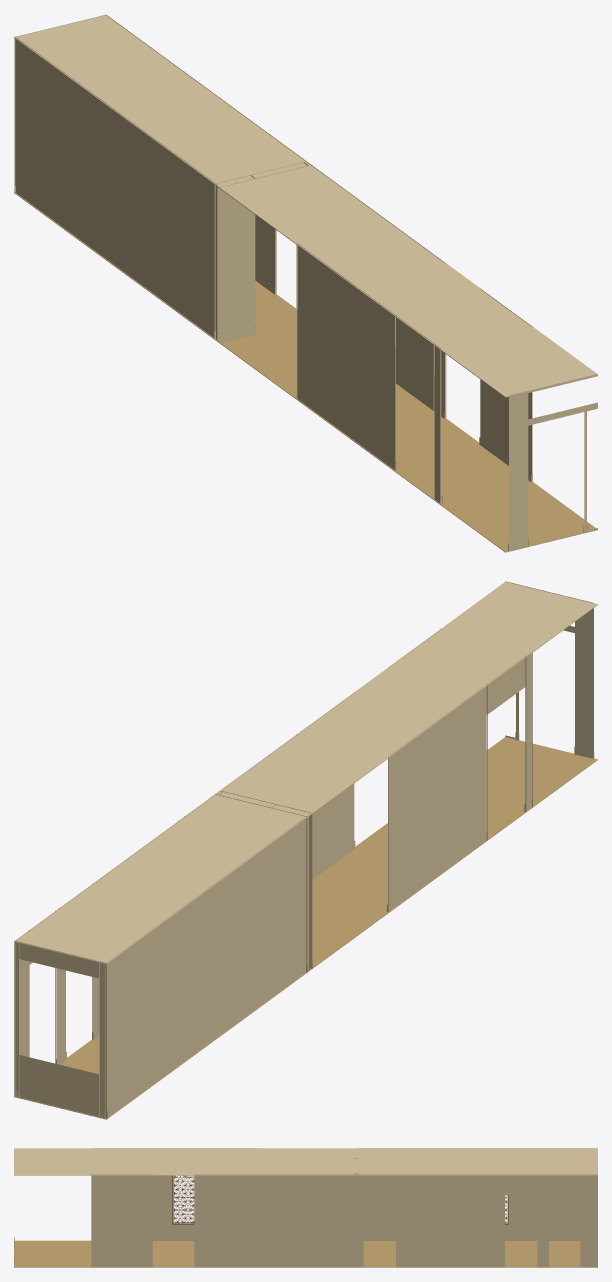
File: corridor-2.glb
The picture shows the model from 3 angles, top to bottom: view 1: azimuth 30°, elevation 25°; view 2: azimuth 150°, elevation 25°; view 3: azimuth 270°, elevation 25°; orthographic projection. The views are drawn at different scales.
Visible parts, largest first — view 1: DESIGN | corridor removable wall finish, DESIGN | corridor ceiling finish, DESIGN | corridor floor finish; view 2: DESIGN | corridor removable wall finish, DESIGN | corridor ceiling finish, DESIGN | corridor floor finish; view 3: DESIGN | corridor removable wall finish, DESIGN | corridor ceiling finish, DESIGN | corridor floor finish, DESIGN | Filtered afternoon lattice diffuse backing.001, DESIGN | Kumiko | Filtered afternoon lattice.001.
Part boxes in pixels (bbox=[...]): DESIGN | corridor removable wall finish: bbox=[14, 14, 597, 550]; DESIGN | corridor ceiling finish: bbox=[14, 15, 597, 397]; DESIGN | corridor floor finish: bbox=[14, 192, 597, 552]; DESIGN | corridor removable wall finish: bbox=[14, 581, 594, 1118]; DESIGN | corridor ceiling finish: bbox=[14, 582, 597, 964]; DESIGN | corridor floor finish: bbox=[14, 737, 597, 1119]; DESIGN | corridor removable wall finish: bbox=[14, 1148, 597, 1267]; DESIGN | corridor ceiling finish: bbox=[14, 1148, 597, 1175]; DESIGN | corridor floor finish: bbox=[14, 1240, 597, 1267]; DESIGN | Filtered afternoon lattice diffuse backing.001: bbox=[173, 1175, 194, 1223]; DESIGN | Kumiko | Filtered afternoon lattice.001: bbox=[172, 1175, 194, 1224].
Bounding box in the file's own units: 1.7 × 2.74 × 15.63.
